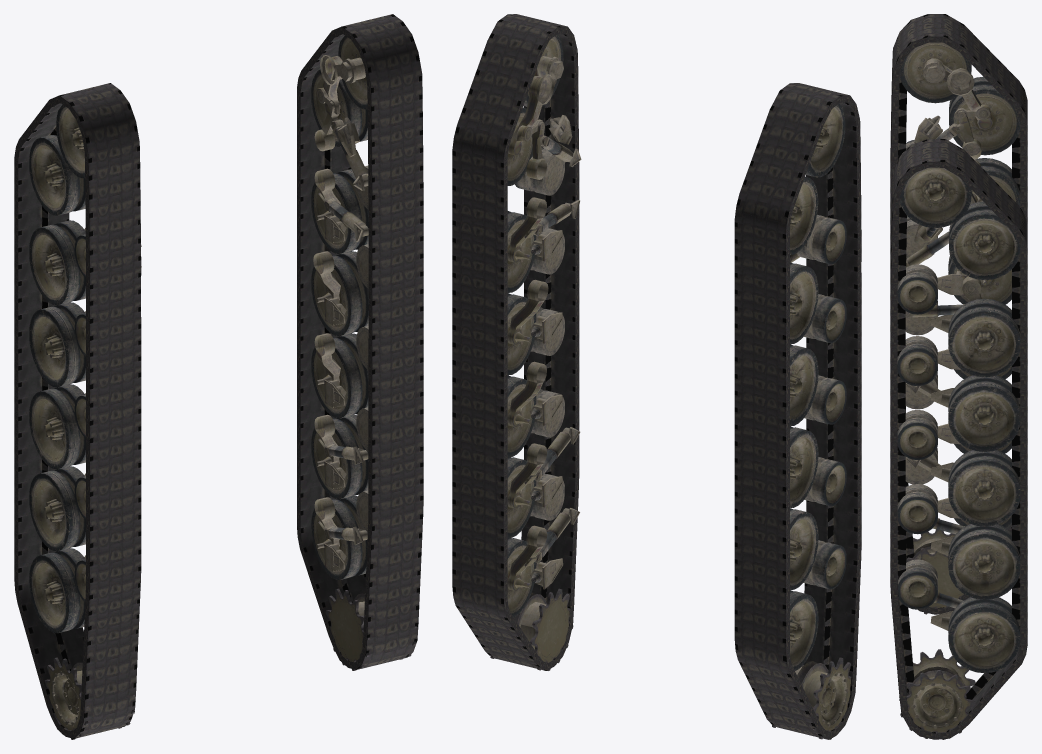
The model's file is Chassis.glb.
The picture shows the model from 3 angles, left to right: view 1: azimuth 30°, elevation 25°; view 2: azimuth 150°, elevation 25°; view 3: azimuth 270°, elevation 25°; orthographic projection. The views are drawn at different scales.
Visible parts, largest first — view 1: set_3_group_0, set_2_group_0, set_0_group_0, set_1_group_0; view 2: set_3_group_0, set_2_group_0, set_0_group_0, set_1_group_0; view 3: set_0_group_0, set_2_group_0, set_1_group_0, set_3_group_0.
Boxes of the visible parts, x1,y1,x2,y2 form: set_3_group_0: [14, 83, 141, 738]; set_2_group_0: [297, 14, 423, 669]; set_0_group_0: [311, 35, 416, 670]; set_1_group_0: [29, 104, 141, 739]; set_3_group_0: [734, 83, 861, 739]; set_2_group_0: [452, 14, 579, 670]; set_0_group_0: [485, 34, 581, 670]; set_1_group_0: [766, 103, 851, 739]; set_0_group_0: [897, 167, 1020, 739]; set_2_group_0: [890, 139, 1027, 739]; set_1_group_0: [900, 42, 1020, 614]; set_3_group_0: [890, 14, 1027, 614].
Bounding box in the file's own units: 3.18 × 5.82 × 1.25.
4 materials, 4 textured.
